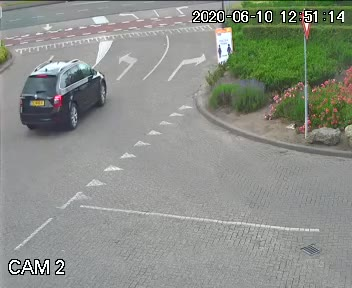car: (15, 53, 109, 129)
